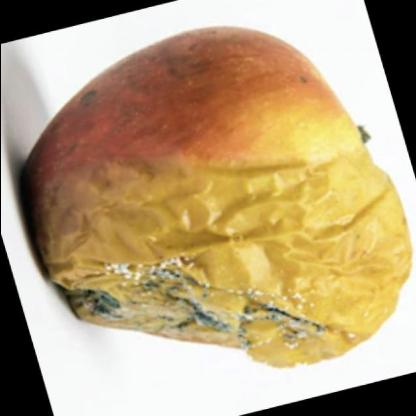defect: (68, 172, 392, 368)
